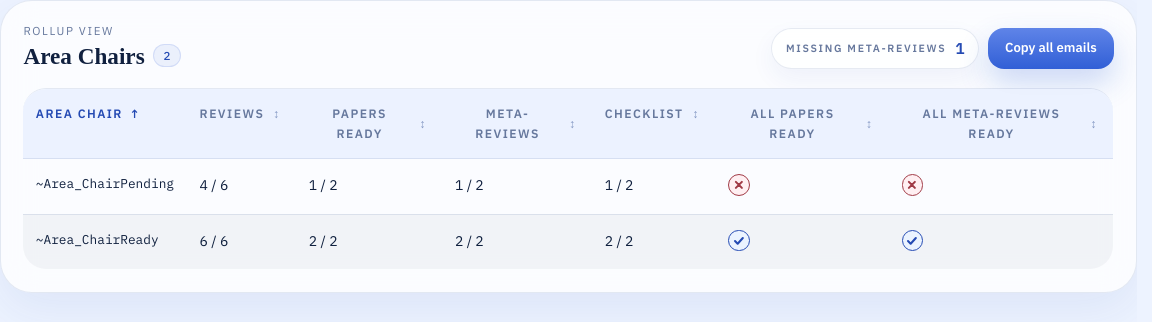
ACDashboardPanel › copies all meta-reviewer emails in mail-client friendly format
Click the button with aria-label "copy emails for all 2 meta-reviewers" at (1051, 48), box [988,28,1114,69]
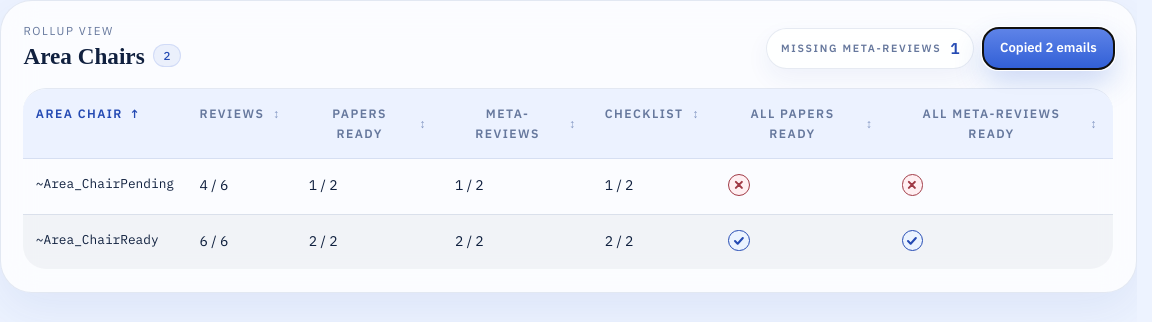
Now the button with aria-label "copy emails for all 2 meta-reviewers" reads "Copied 2 emails", box [983,28,1114,69]
